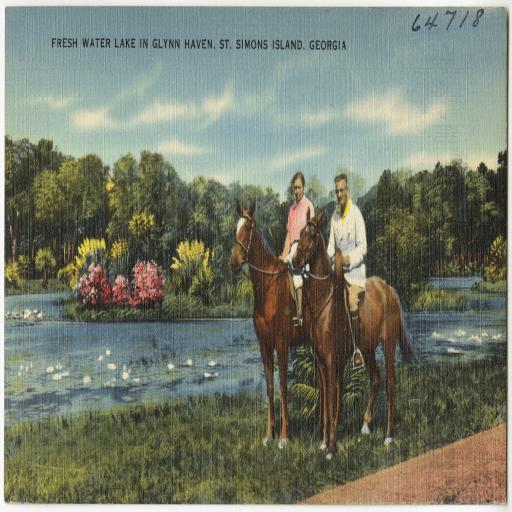horse: (290, 202, 422, 460), (231, 196, 346, 450)
